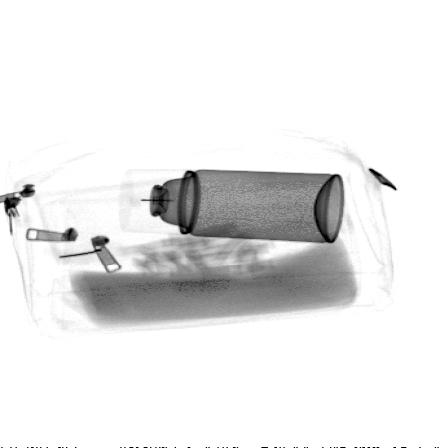Sprayer: (117, 166, 346, 246)
